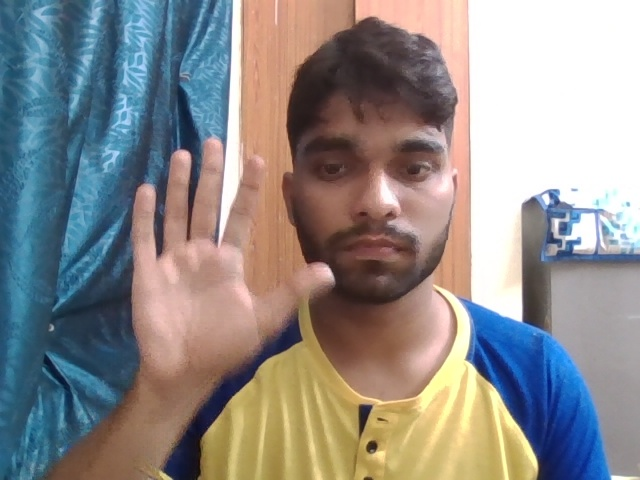Hello: (124, 133, 338, 397)
